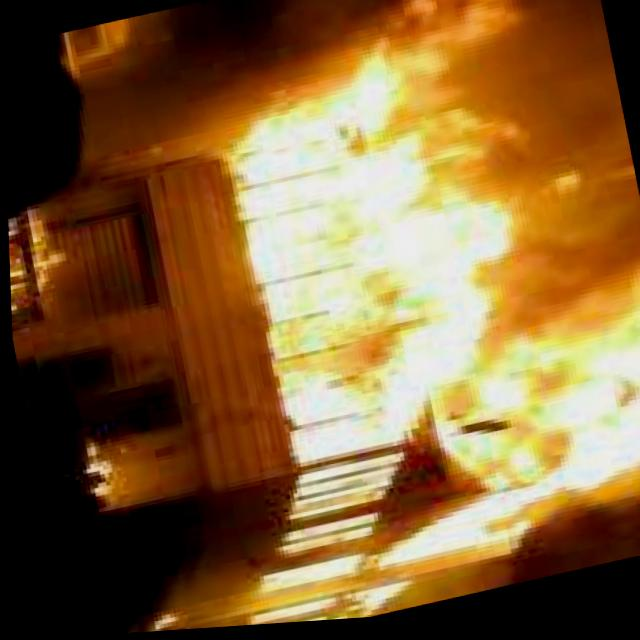fire: (194, 0, 640, 617), (6, 205, 72, 319), (60, 431, 138, 511), (110, 12, 167, 37)
